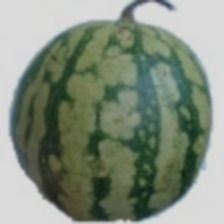watermelon: (46, 29, 204, 182)
